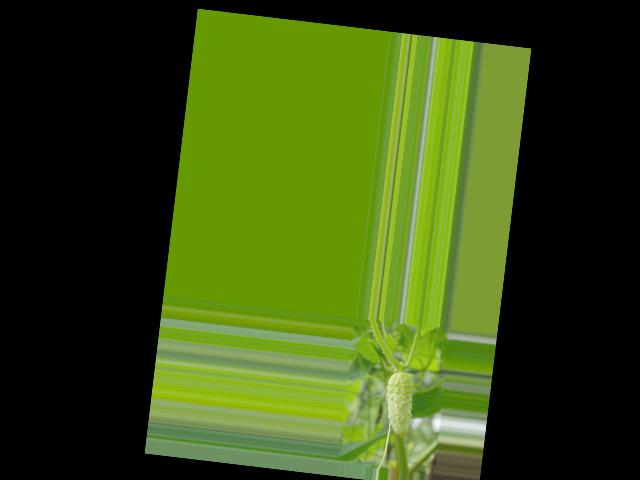cucumber: (380, 370, 415, 438)
